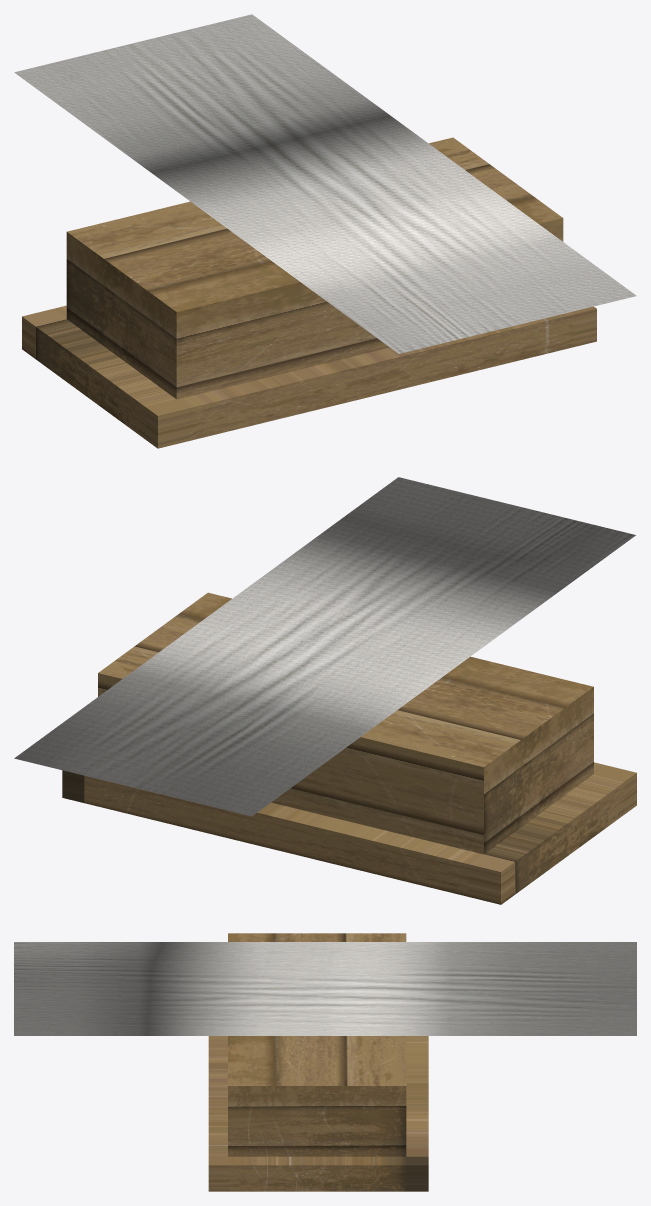
Rendered from bed.fbx.
3 views of the same model, one above another, from view 1: azimuth 30°, elevation 25°; view 2: azimuth 150°, elevation 25°; view 3: azimuth 270°, elevation 25° (orthographic). The views are drawn at different scales.
Visible parts, largest first — view 1: pPlane10, polySurface39; view 2: pPlane10, polySurface39; view 3: pPlane10, polySurface39.
Part boxes in pixels (bbox=[...]): pPlane10: bbox=[14, 14, 636, 353]; polySurface39: bbox=[22, 137, 596, 448]; pPlane10: bbox=[14, 477, 635, 816]; polySurface39: bbox=[62, 592, 636, 904]; pPlane10: bbox=[14, 942, 636, 1035]; polySurface39: bbox=[208, 933, 428, 1191].
Bounding box in the file's own units: 2.53 × 0.8437 × 3.84.
